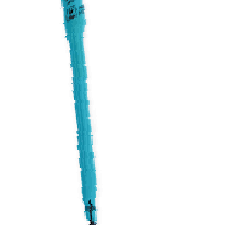screwdriver: (48, 1, 130, 225)
